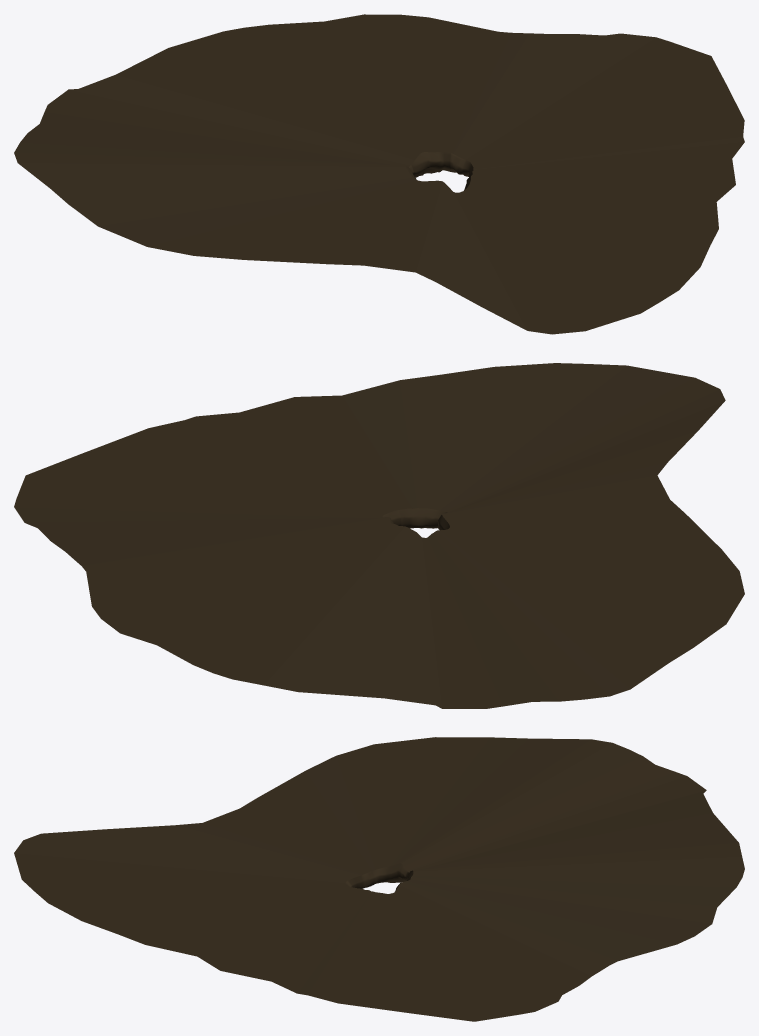
Rendered from ceiling.fbx.
3 renders of one model, top to bottom at view 1: azimuth 30°, elevation 25°; view 2: azimuth 150°, elevation 25°; view 3: azimuth 270°, elevation 25°, orthographic. The views are drawn at different scales.
Visible parts, largest first — view 1: Cave_Ceiling_LowPoly; view 2: Cave_Ceiling_LowPoly; view 3: Cave_Ceiling_LowPoly.
Boxes of the visible parts, x1,y1,x2,y2 form: Cave_Ceiling_LowPoly: (14,14,744,334); Cave_Ceiling_LowPoly: (14,363,744,708); Cave_Ceiling_LowPoly: (14,737,744,1021).
Bounding box in the file's own units: 463 × 36.23 × 502.
